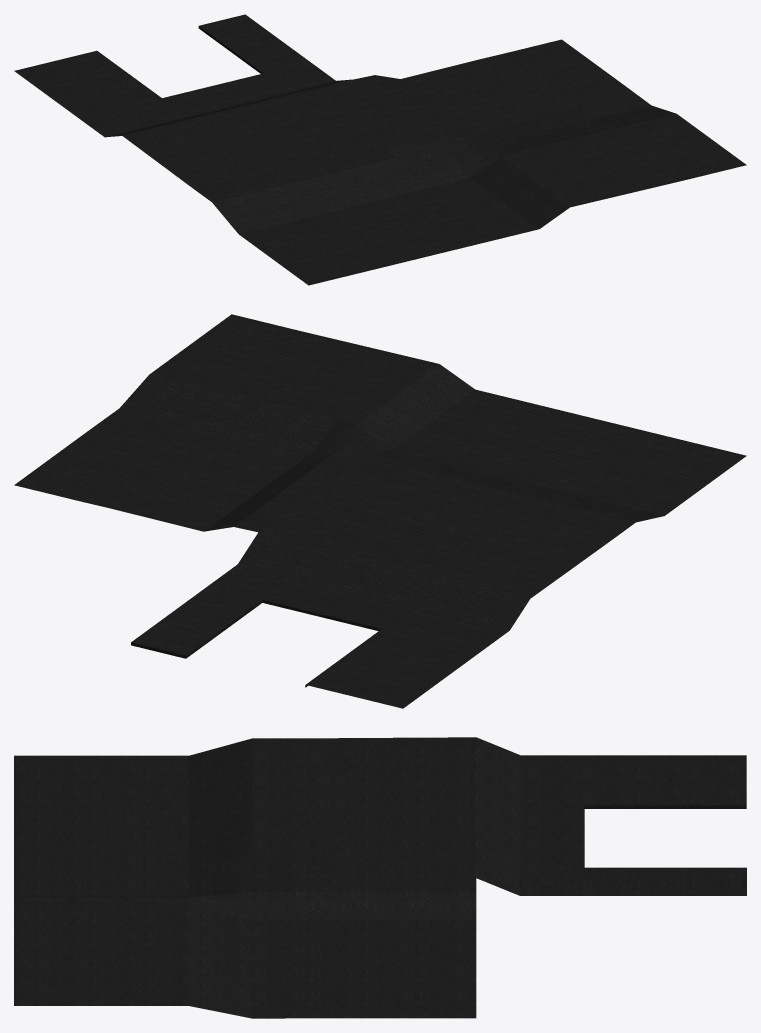
The model's file is sLevel1.fbx.
The picture shows the model from 3 angles, top to bottom: view 1: azimuth 30°, elevation 25°; view 2: azimuth 150°, elevation 25°; view 3: azimuth 270°, elevation 25°; orthographic projection. The views are drawn at different scales.
Parts seen in each view (by area): view 1: polySurface1; view 2: polySurface1; view 3: polySurface1.
Part boxes in pixels (box(x1,y1,x2,y2)): polySurface1: box(14, 14, 746, 285); polySurface1: box(14, 314, 746, 708); polySurface1: box(14, 737, 746, 1018).
Bounding box in the file's own units: 409 × 14.97 × 473.
1 material, 1 textured.
